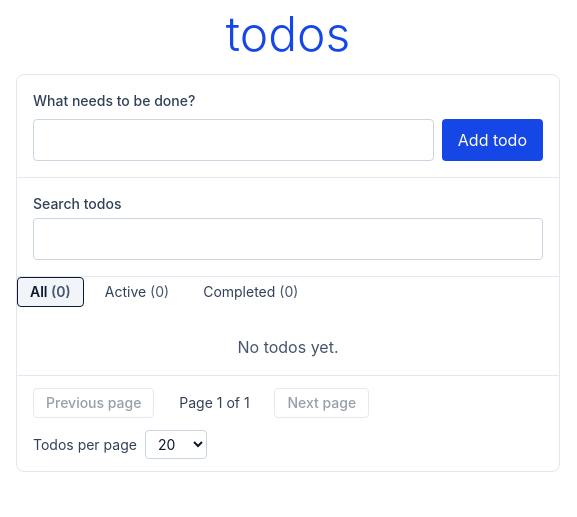
App create form › makes no request for an empty title
Expected: the text "No todos yet." is shown, [238, 337, 338, 357]
Click the button "Add todo" at coordinates (492, 140), box [442, 119, 543, 161]
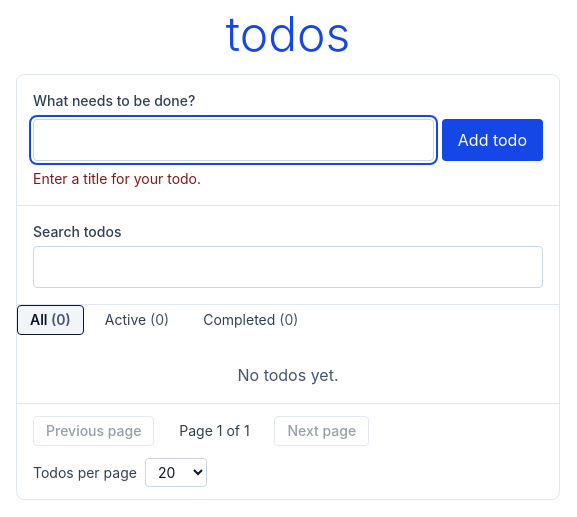
Result: the message reads "Enter a title for your todo." at [33, 170, 201, 187]
